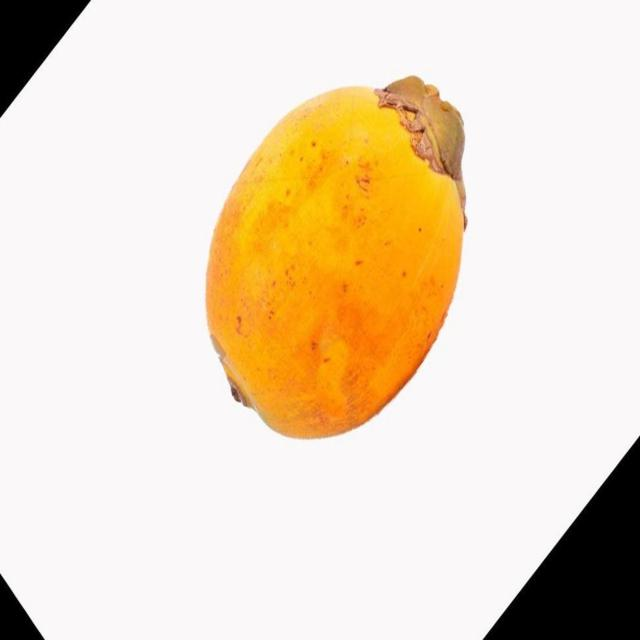good: (204, 77, 468, 443)
